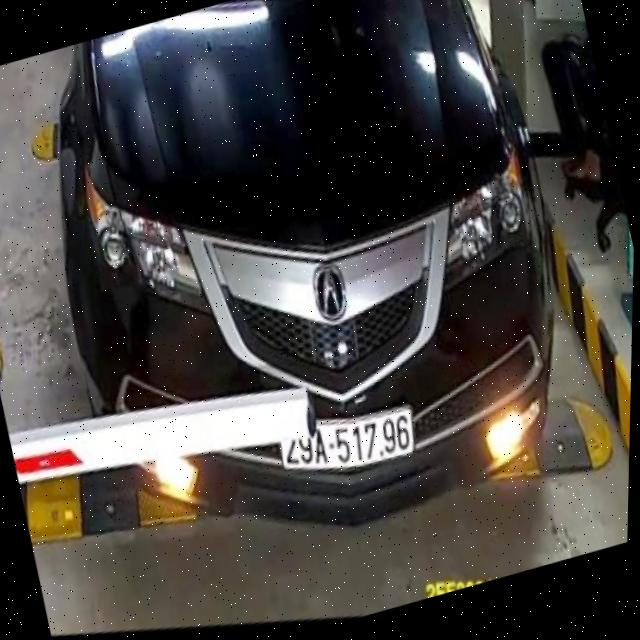car: (40, 0, 574, 550)
plate: (269, 398, 423, 485)
